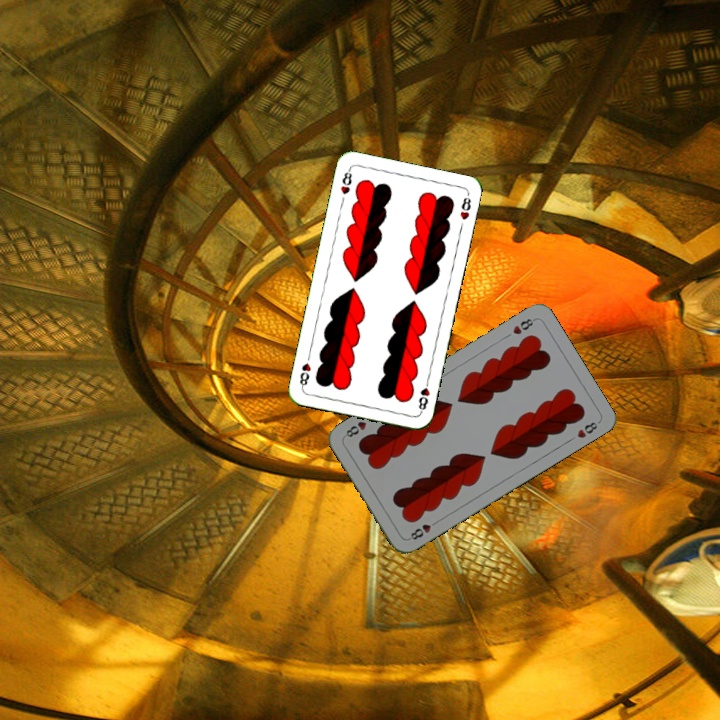H8: (404, 516, 441, 543), (414, 375, 432, 415), (508, 314, 538, 337), (337, 165, 355, 197)
